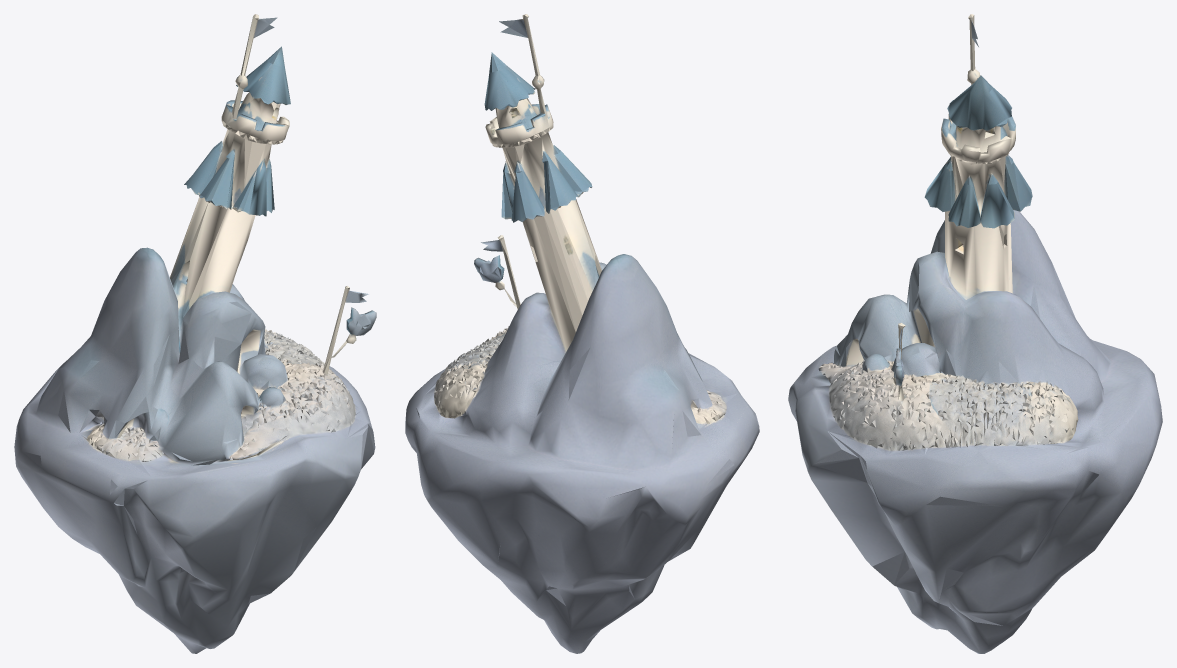
File: castleislet.fbx
3 views of the same model, side by side, from view 1: azimuth 30°, elevation 25°; view 2: azimuth 150°, elevation 25°; view 3: azimuth 270°, elevation 25° (orthographic). The views are drawn at different scales.
Parts seen in each view (by area): view 1: Mesh_0; view 2: Mesh_0; view 3: Mesh_0.
Boxes of the visible parts, x1,y1,x2,y2 form: Mesh_0: (14,14,376,653); Mesh_0: (405,14,759,653); Mesh_0: (788,14,1162,653).
Bounding box in the file's own units: 98 × 190 × 96.59.
1 material, 1 textured.
